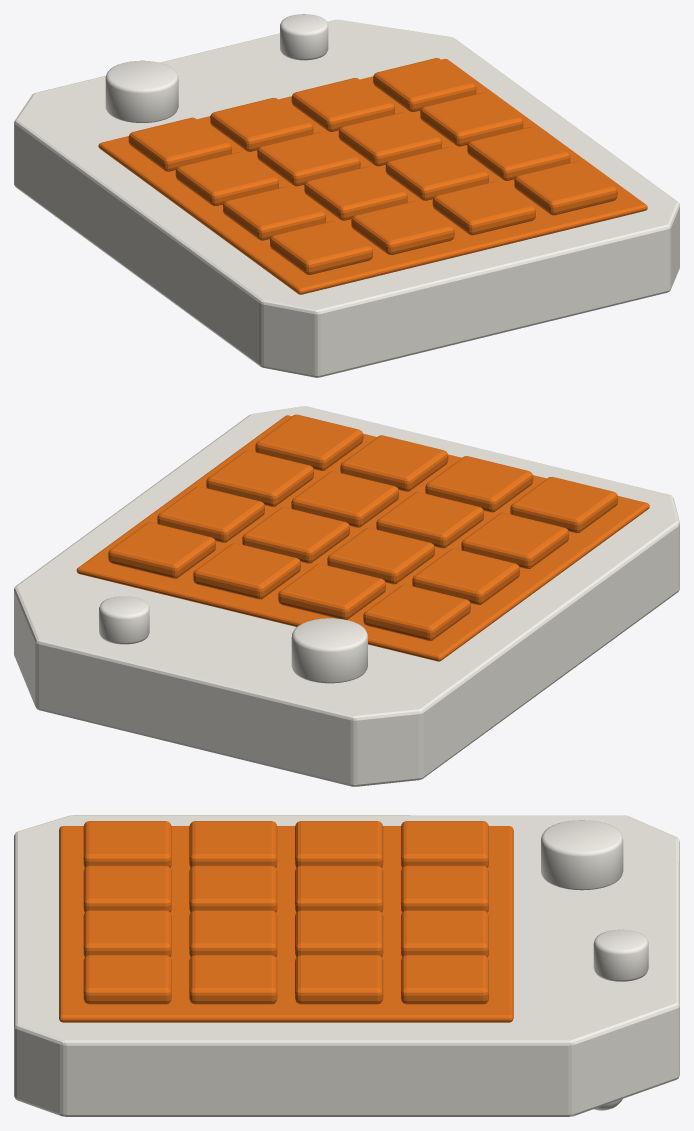
Rendered from boom-bap.glb.
3 renders of one model, top to bottom at view 1: azimuth 30°, elevation 25°; view 2: azimuth 150°, elevation 25°; view 3: azimuth 270°, elevation 25°, orthographic. The views are drawn at different scales.
Parts seen in each view (by area): view 1: porcelain_chassis, connected_glaze_inlay, large_dial, pad_3, pad_1, pad_2, pad_0, pad_10, pad_11, pad_5, pad_9, pad_6 (+8 smaller); view 2: porcelain_chassis, connected_glaze_inlay, large_dial, pad_14, pad_12, pad_15, pad_13, pad_2, pad_3, pad_1, pad_9, pad_8 (+8 smaller); view 3: porcelain_chassis, connected_glaze_inlay, large_dial, pad_11, pad_3, pad_7, pad_15, pad_1, pad_5, pad_9, pad_13, pad_10 (+8 smaller).
Boxes of the visible parts, left/top/right/bottom form: porcelain_chassis: left=14, top=19, right=679, bottom=377; connected_glaze_inlay: left=98, top=59, right=647, bottom=294; large_dial: left=105, top=60, right=178, bottom=122; pad_3: left=514, top=161, right=617, bottom=215; pad_1: left=351, top=201, right=454, bottom=254; pad_2: left=432, top=181, right=535, bottom=235; pad_0: left=270, top=221, right=372, bottom=274; pad_10: left=338, top=112, right=441, bottom=166; pad_11: left=420, top=92, right=523, bottom=146; pad_5: left=304, top=166, right=407, bottom=220; pad_9: left=257, top=132, right=360, bottom=186; pad_6: left=385, top=146, right=488, bottom=200; porcelain_chassis: left=14, top=406, right=679, bottom=786; connected_glaze_inlay: left=76, top=415, right=649, bottom=661; large_dial: left=291, top=618, right=367, bottom=683; pad_14: left=193, top=543, right=300, bottom=599; pad_12: left=363, top=584, right=470, bottom=640; pad_15: left=108, top=522, right=215, bottom=578; pad_13: left=278, top=564, right=385, bottom=619; pad_2: left=340, top=435, right=448, bottom=491; pad_3: left=255, top=414, right=363, bottom=470; pad_1: left=425, top=456, right=533, bottom=512; pad_9: left=327, top=528, right=434, bottom=584; pad_8: left=412, top=548, right=519, bottom=604; porcelain_chassis: left=14, top=815, right=679, bottom=1116; connected_glaze_inlay: left=59, top=826, right=513, bottom=1022; large_dial: left=541, top=820, right=623, bottom=890; pad_11: left=295, top=955, right=383, bottom=1004; pad_3: left=83, top=955, right=171, bottom=1004; pad_7: left=189, top=955, right=277, bottom=1004; pad_15: left=401, top=955, right=488, bottom=1004; pad_1: left=83, top=865, right=171, bottom=912; pad_5: left=189, top=865, right=277, bottom=912; pad_9: left=295, top=865, right=383, bottom=912; pad_13: left=401, top=865, right=488, bottom=912; pad_10: left=295, top=910, right=383, bottom=956.
Bounding box in the file's own units: 0.276 × 0.076 × 0.34.
